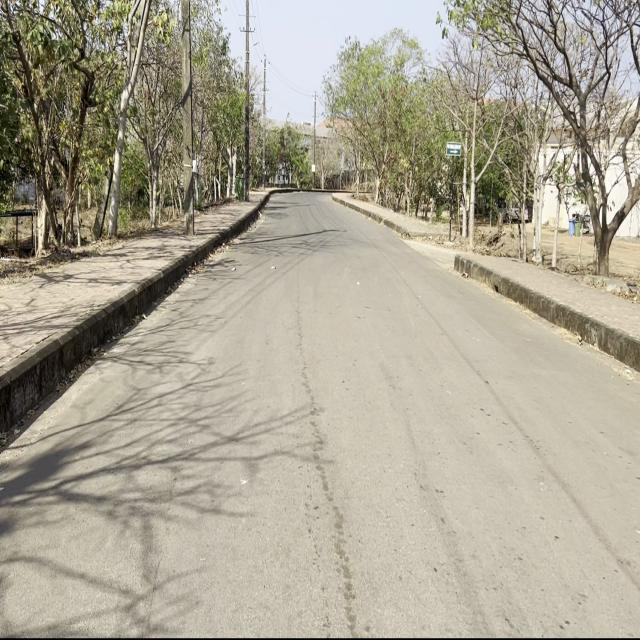Road: (3, 192, 638, 635)
